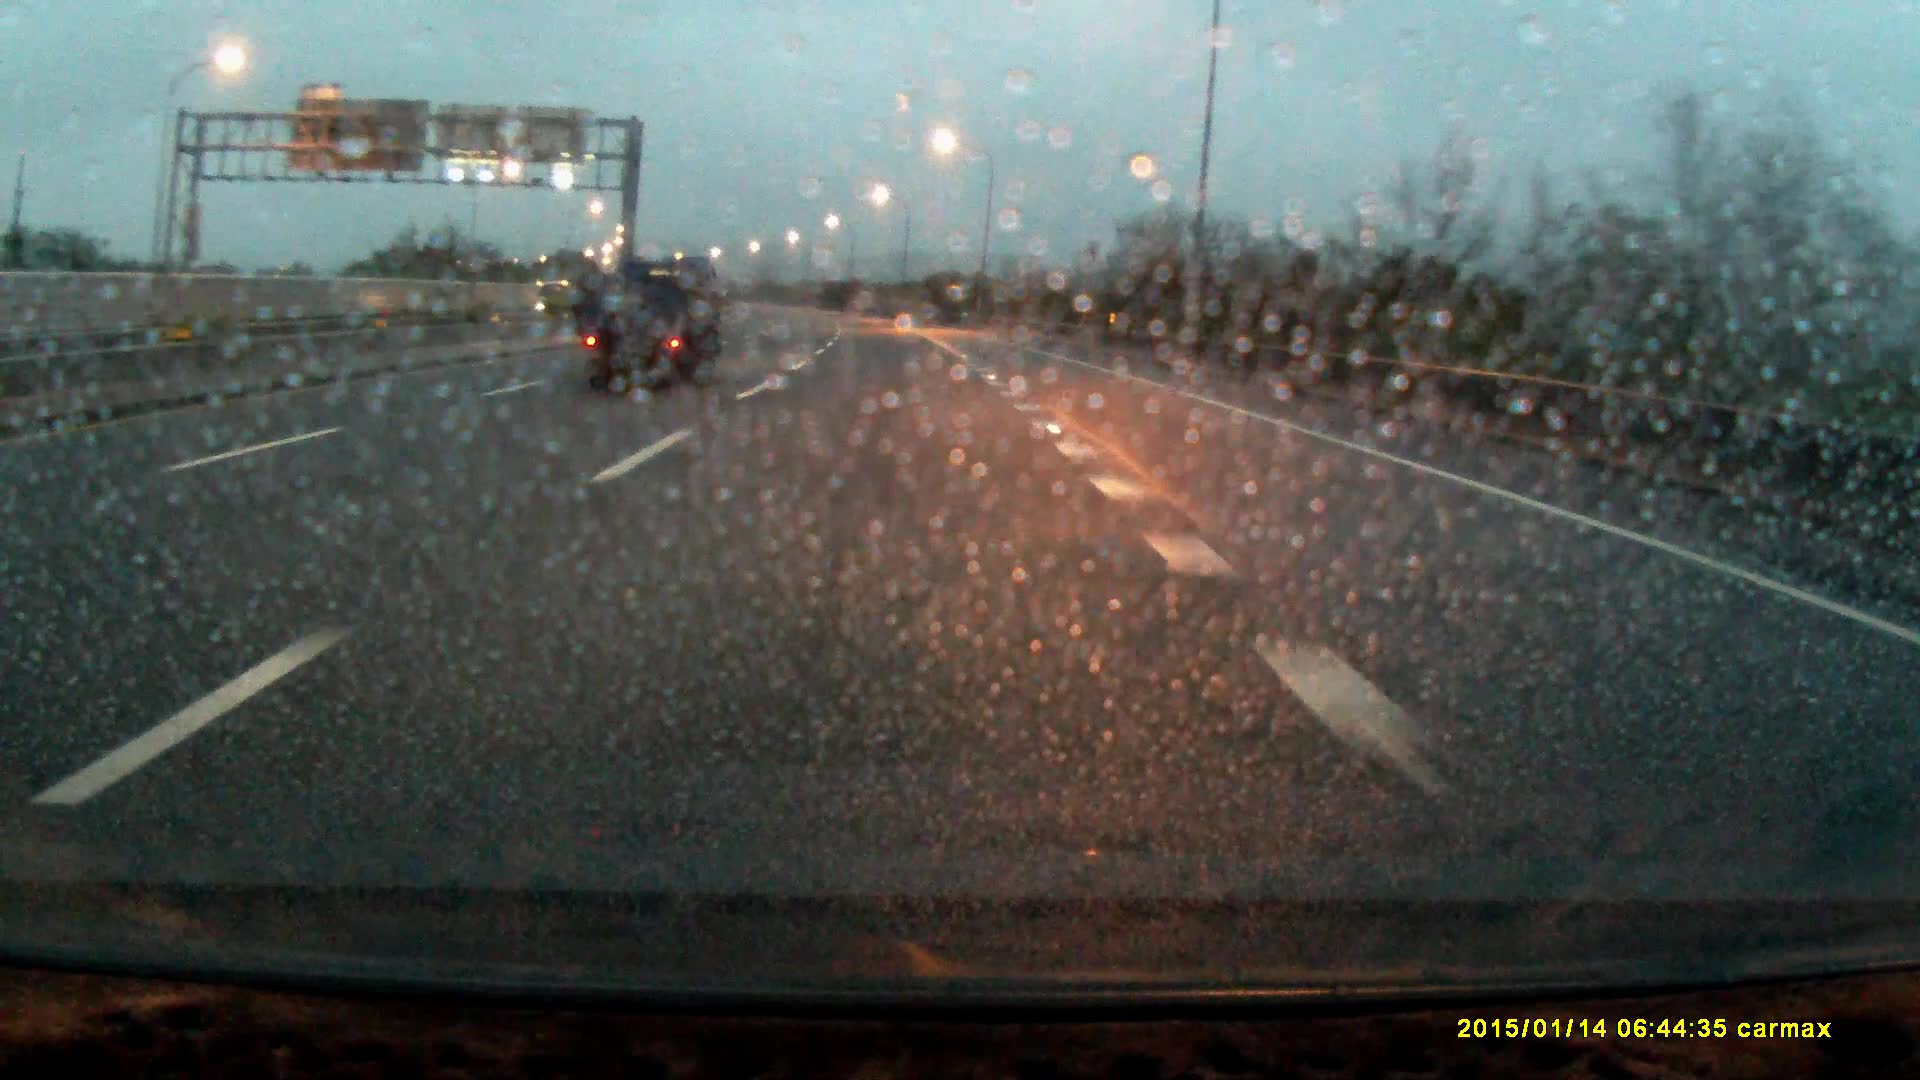vehicle: (576, 253, 725, 385)
